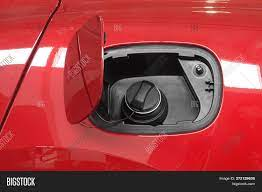open: (89, 37, 231, 136)
